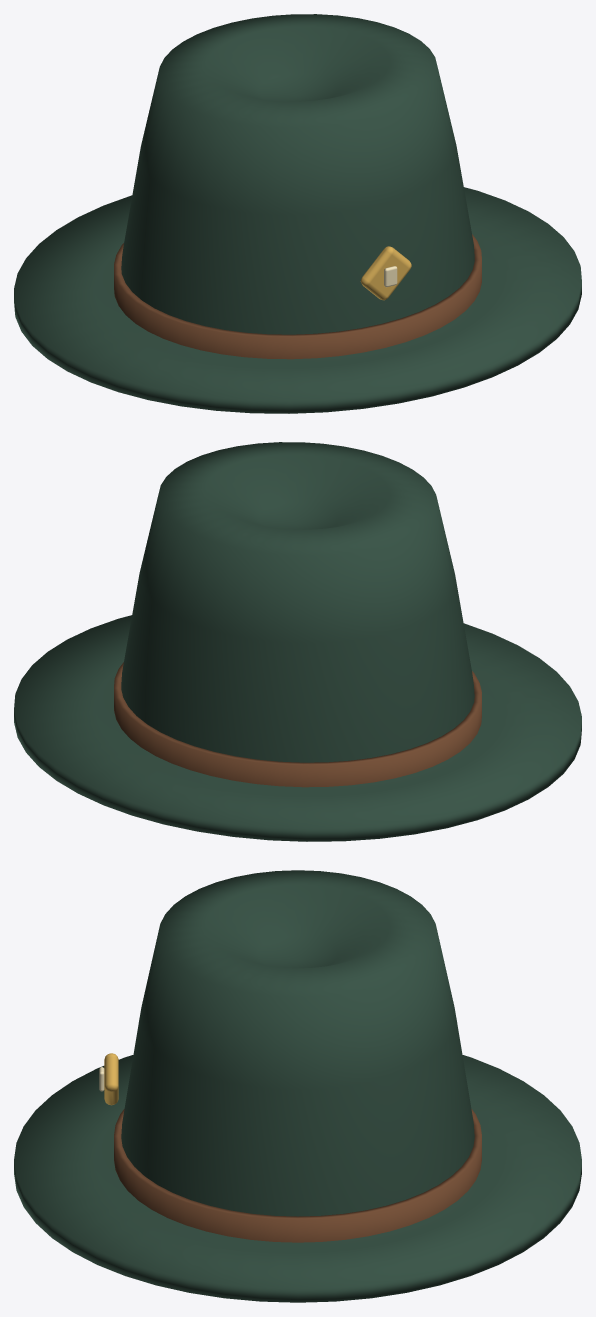
Rendered from 06-pine-ranger.glb.
The picture shows the model from 3 angles, top to bottom: view 1: azimuth 30°, elevation 25°; view 2: azimuth 150°, elevation 25°; view 3: azimuth 270°, elevation 25°; orthographic projection. The views are drawn at different scales.
Visible parts, largest first — view 1: Hat06_Crown1, Hat06_Brim2, Hat06_Band3, Hat06_Badge4; view 2: Hat06_Crown1, Hat06_Brim2, Hat06_Band3; view 3: Hat06_Crown1, Hat06_Brim2, Hat06_Band3, Hat06_Badge4.
Part boxes in pixels (x1,y1,x2,y2): Hat06_Crown1: (121, 14, 474, 334); Hat06_Brim2: (14, 187, 581, 413); Hat06_Band3: (114, 234, 481, 359); Hat06_Badge4: (360, 246, 411, 300); Hat06_Crown1: (121, 442, 474, 762); Hat06_Brim2: (14, 615, 581, 841); Hat06_Band3: (114, 662, 481, 787); Hat06_Crown1: (121, 870, 474, 1216); Hat06_Brim2: (14, 1055, 581, 1302); Hat06_Band3: (114, 1109, 481, 1242); Hat06_Badge4: (104, 1053, 118, 1105).
Bounding box in the file's own units: 0.95 × 0.432 × 0.8835.
